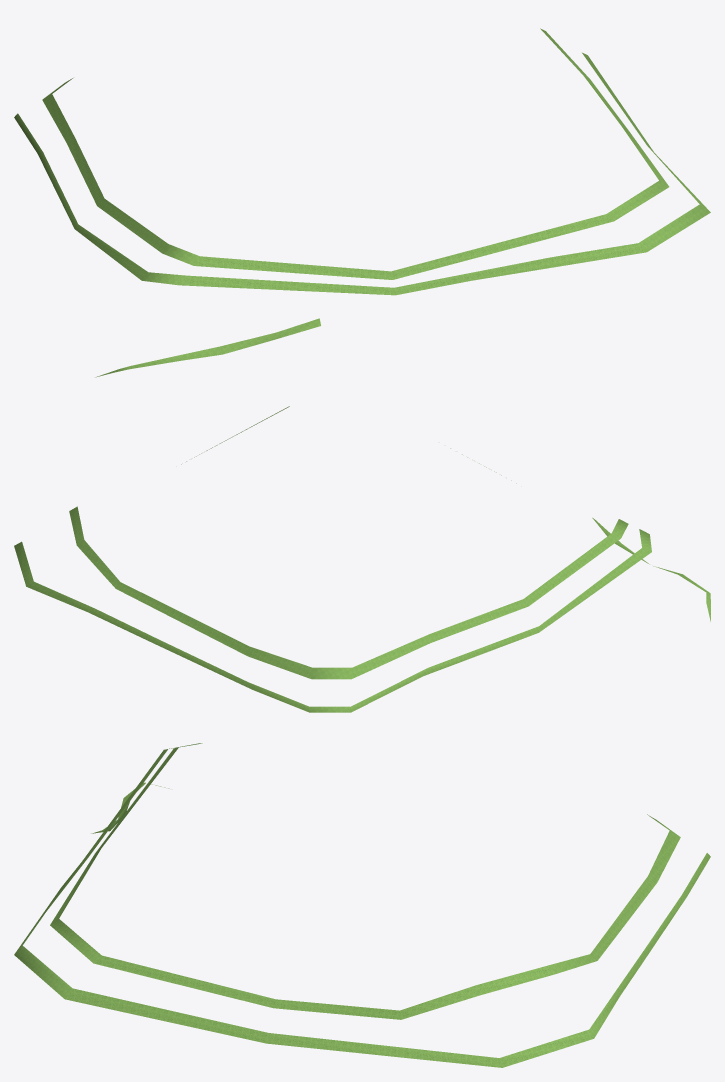
The model's file is kd_stage_136599_10_31_bounded.glb.
3 views of the same model, one above another, from view 1: azimuth 30°, elevation 25°; view 2: azimuth 150°, elevation 25°; view 3: azimuth 270°, elevation 25° (orthographic). The views are drawn at different scales.
Visible parts, largest first — view 1: kd_stage_136599_10_31_bounded; view 2: kd_stage_136599_10_31_bounded; view 3: kd_stage_136599_10_31_bounded.
Boxes of the visible parts, <box> form: kd_stage_136599_10_31_bounded: <box>14,28,710,377</box>; kd_stage_136599_10_31_bounded: <box>14,406,710,712</box>; kd_stage_136599_10_31_bounded: <box>14,743,710,1067</box>.
Bounding box in the file's own units: 350 × 50.24 × 318.
1 material, 1 textured.
